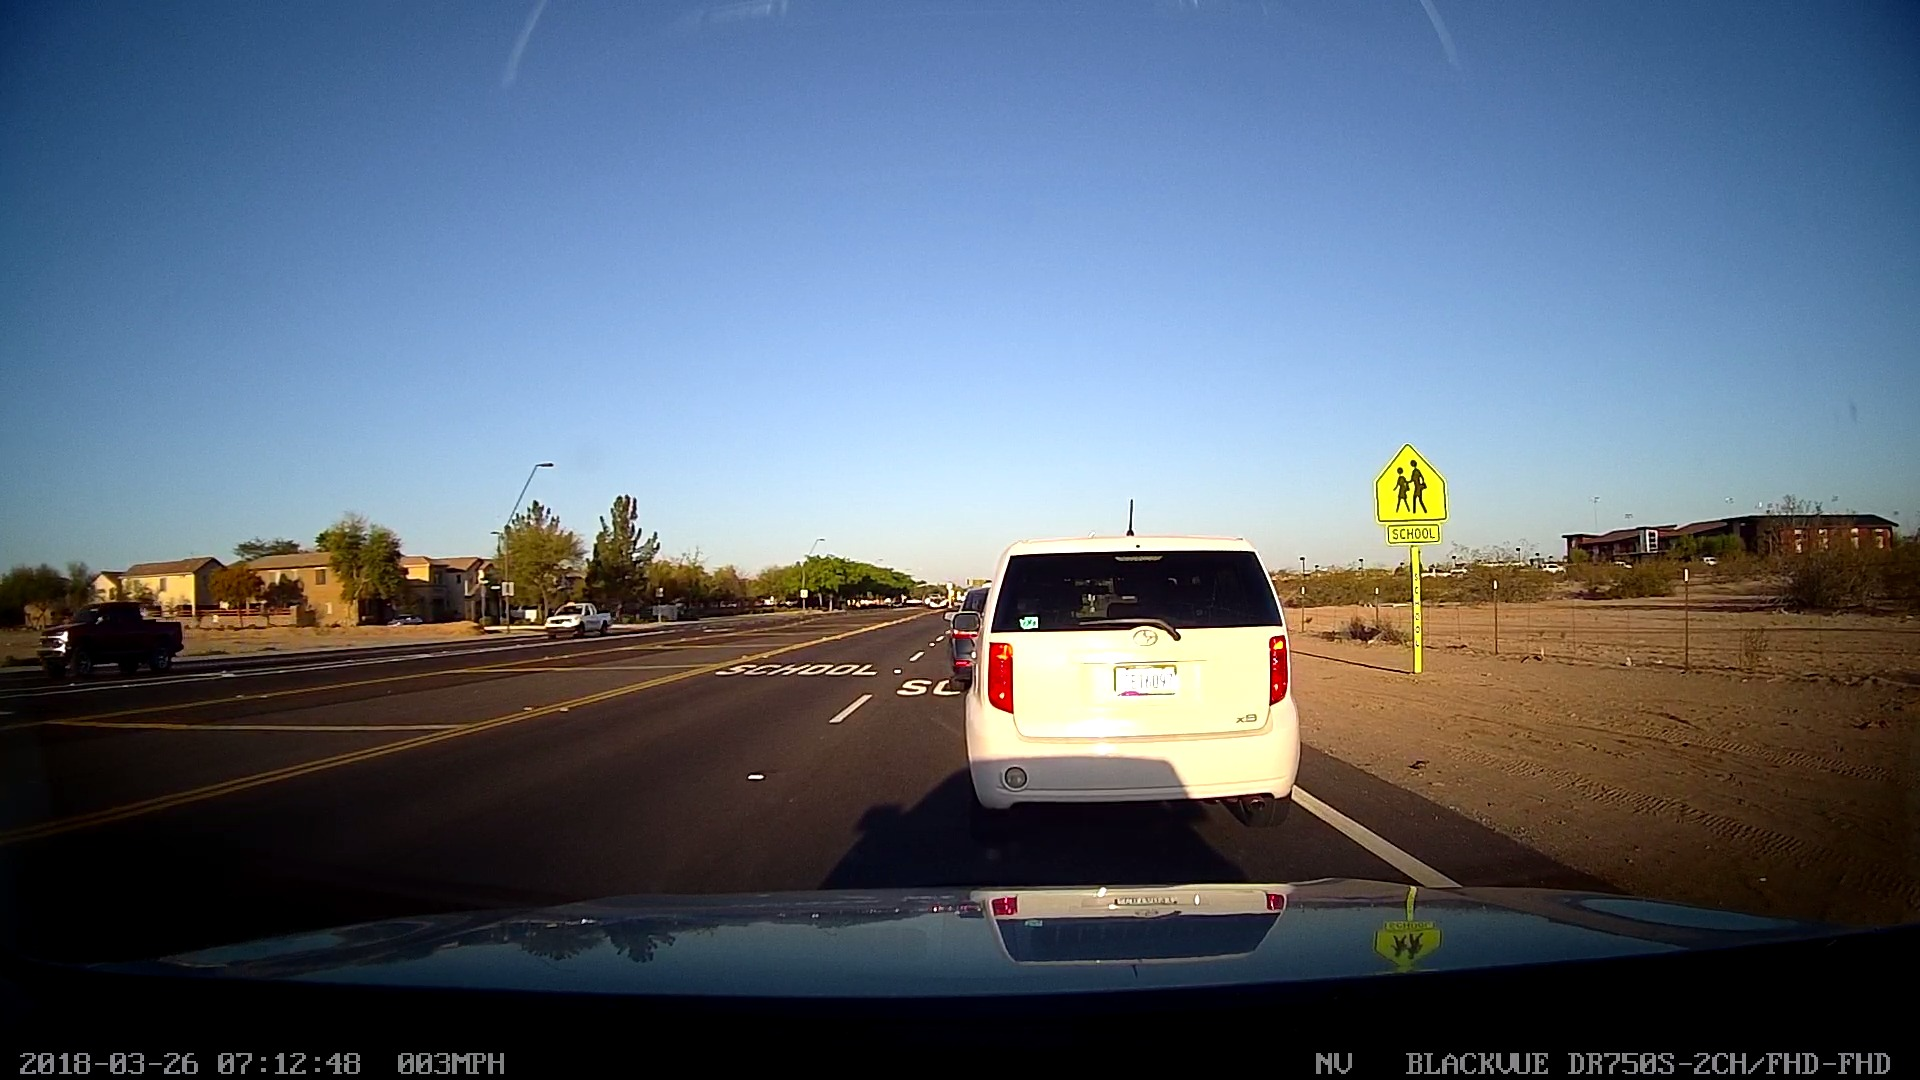plate: (1106, 657, 1186, 703)
vehicle: (952, 534, 1302, 818), (38, 594, 182, 686), (540, 597, 614, 642)
